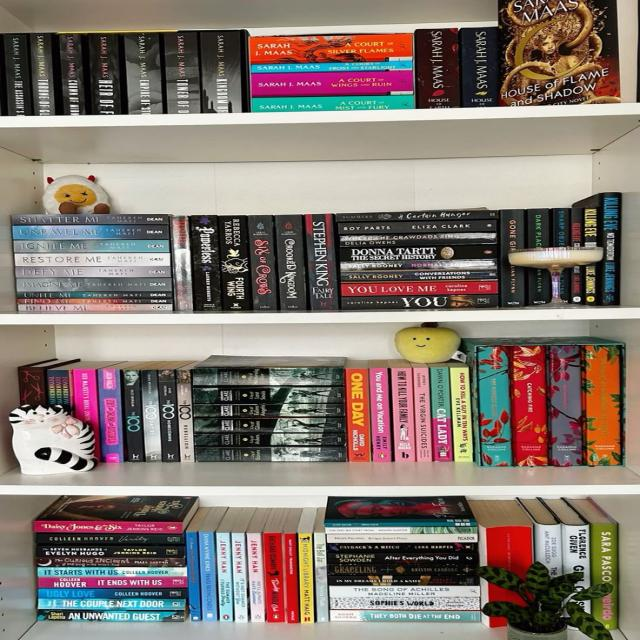book: (508, 345, 549, 466), (582, 345, 623, 465), (547, 345, 584, 466), (250, 36, 414, 62), (250, 71, 413, 97), (476, 344, 510, 466), (200, 31, 245, 113), (303, 214, 339, 311), (416, 28, 458, 108), (459, 28, 498, 106), (218, 216, 250, 311), (275, 215, 306, 312), (124, 33, 161, 114), (165, 32, 202, 113), (340, 244, 498, 262), (248, 215, 277, 312), (190, 216, 219, 311), (597, 193, 621, 305), (70, 369, 99, 461), (252, 96, 414, 112), (97, 367, 124, 463), (89, 34, 121, 114), (194, 368, 344, 385), (500, 209, 526, 307), (338, 219, 497, 234), (340, 232, 498, 247), (342, 295, 499, 310), (2, 33, 30, 115), (194, 388, 345, 403), (58, 33, 85, 115), (345, 369, 369, 461), (342, 282, 499, 296), (429, 366, 452, 461), (14, 226, 170, 240), (390, 368, 413, 461), (196, 448, 348, 462), (329, 596, 481, 610), (195, 418, 346, 432), (369, 368, 391, 462), (36, 532, 183, 546), (30, 33, 55, 115), (15, 253, 170, 266), (17, 278, 171, 291), (451, 365, 471, 462), (251, 61, 412, 73), (123, 369, 144, 461), (171, 216, 191, 312), (340, 269, 497, 281), (16, 266, 172, 278), (158, 370, 178, 461), (195, 404, 346, 416), (195, 434, 346, 446), (412, 367, 431, 462), (263, 532, 283, 622), (336, 210, 499, 221), (39, 576, 188, 588), (197, 532, 217, 621), (34, 521, 182, 533), (37, 610, 185, 622), (341, 260, 498, 271), (14, 241, 170, 252), (141, 371, 160, 461), (486, 528, 533, 564), (327, 553, 479, 564), (327, 564, 478, 575), (330, 610, 480, 621), (37, 546, 185, 557), (329, 586, 480, 596), (298, 530, 314, 623), (177, 370, 193, 462), (39, 599, 186, 609), (217, 532, 233, 622), (283, 533, 299, 623), (12, 215, 169, 224), (593, 524, 617, 582), (37, 567, 188, 576), (248, 532, 263, 622), (329, 576, 479, 585), (314, 533, 329, 622), (39, 589, 187, 598), (186, 532, 201, 620), (562, 524, 590, 570), (326, 544, 478, 552), (327, 534, 478, 542), (18, 366, 48, 406), (36, 558, 186, 566), (233, 532, 246, 622), (535, 523, 562, 566), (18, 304, 173, 311), (325, 527, 477, 534), (48, 369, 70, 414), (526, 210, 550, 248), (17, 292, 172, 297), (551, 209, 570, 246), (17, 299, 173, 303), (584, 210, 598, 247), (571, 209, 584, 247), (324, 523, 477, 526)
figurine: (10, 404, 97, 475)
plants: (478, 561, 614, 639)
